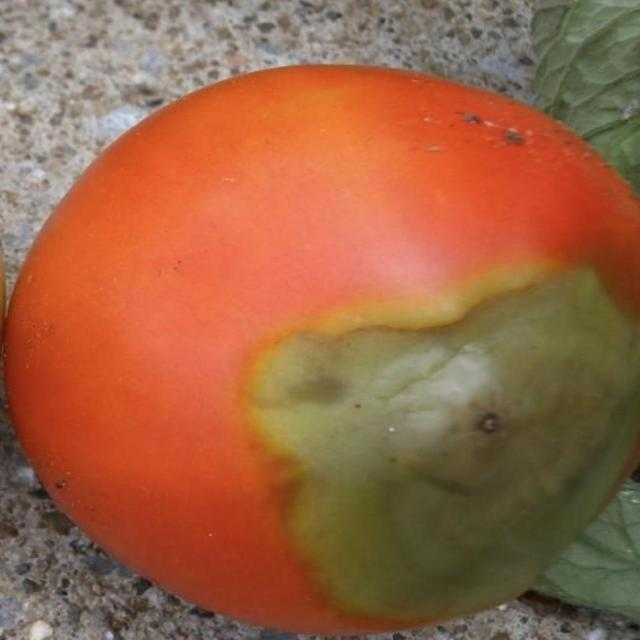Blossom End Rot Fruit: (158, 174, 426, 415)
